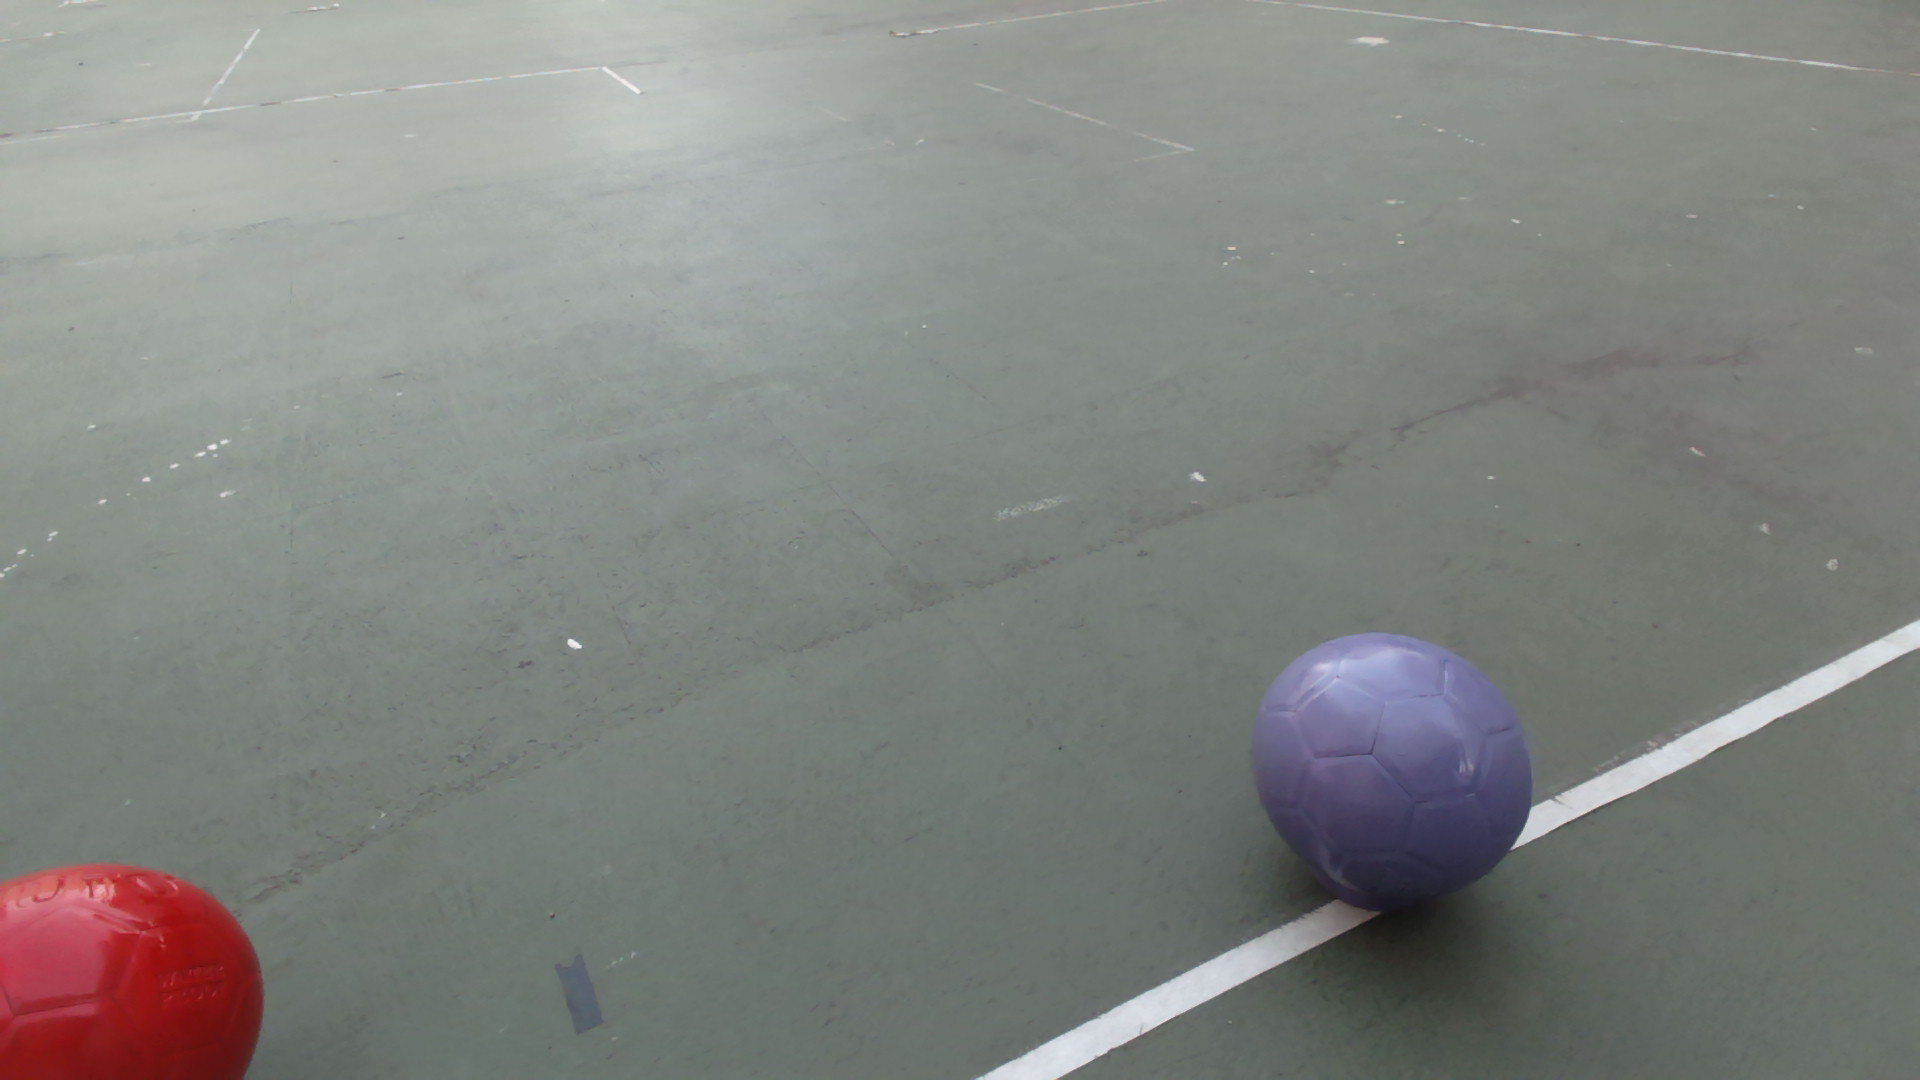Purple ball: (1247, 633, 1538, 911)
Red ball: (1, 858, 269, 1080)
